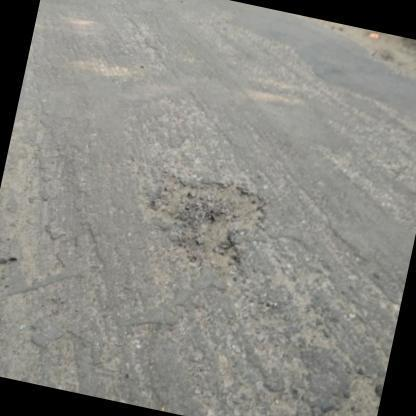pothole: (146, 171, 269, 264), (316, 362, 384, 416)
